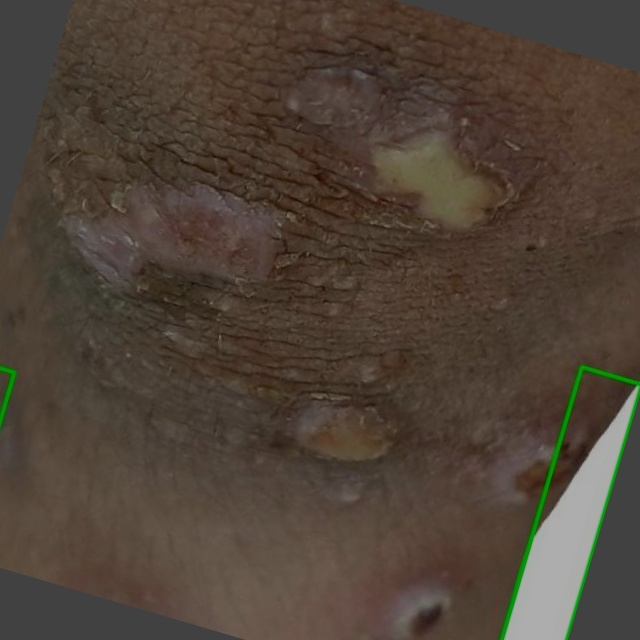Scabies: (502, 366, 639, 639)
